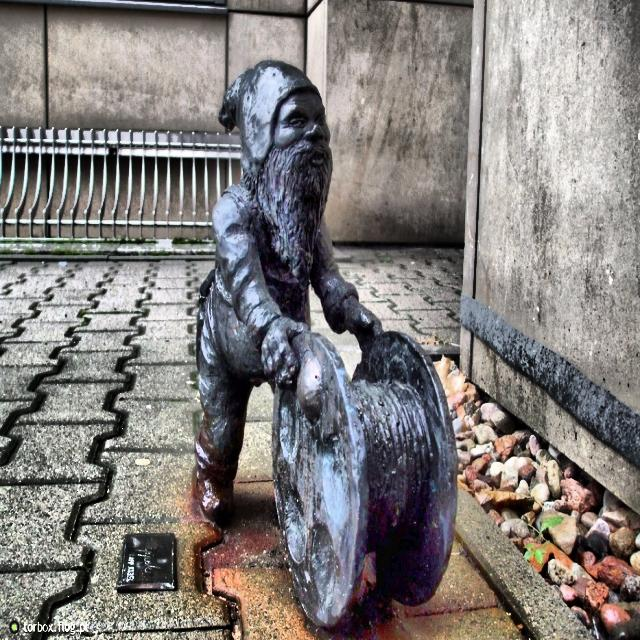Lappek: (191, 60, 458, 627)
